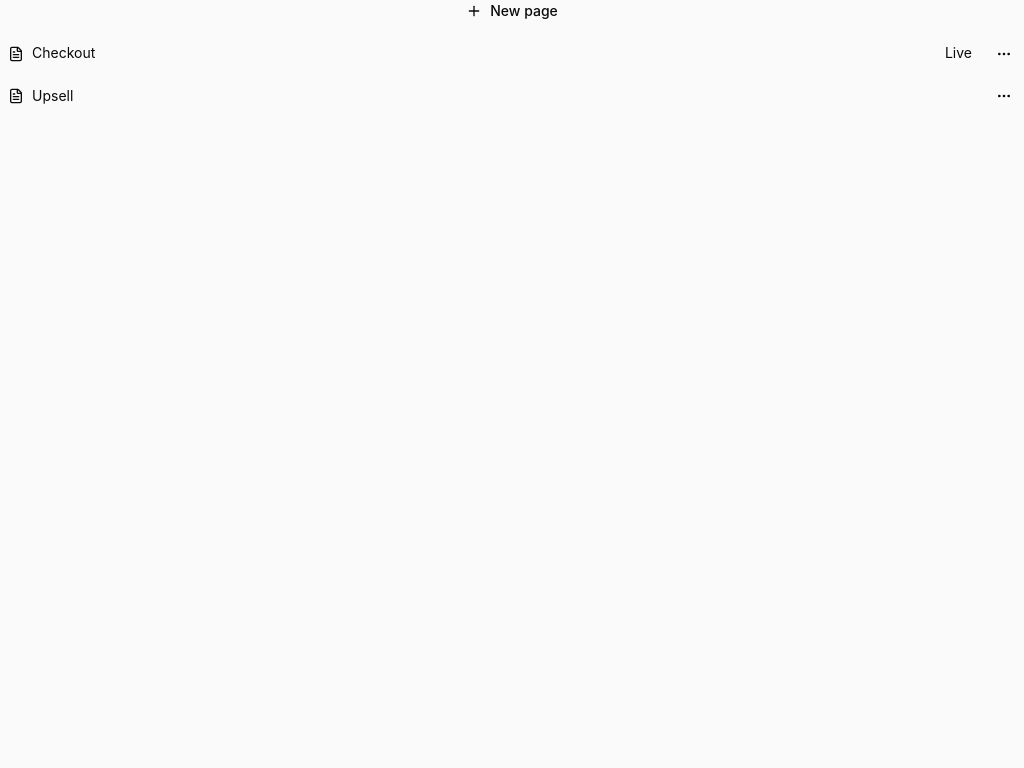
PagesPanel › creating › says what went wrong and stays open
Click the button "New page" at x=512, y=11, box [0,0,1023,22]
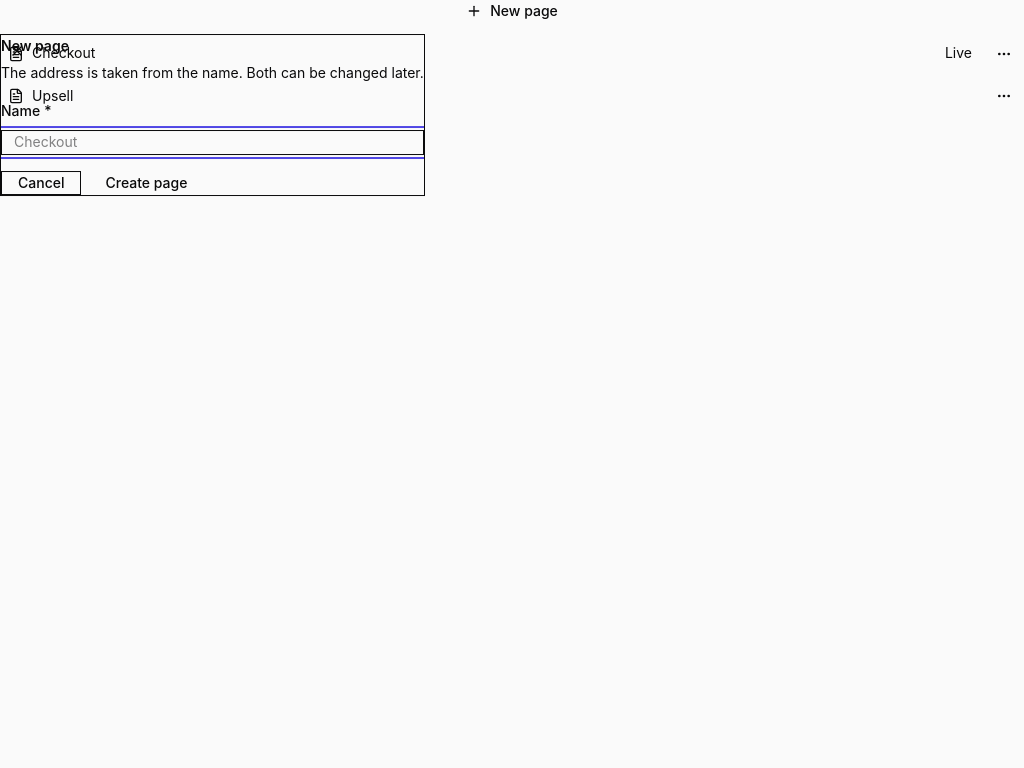
Type "Thank you" into the field labelled "Name" at x=212, y=143, box [1,130,424,155]
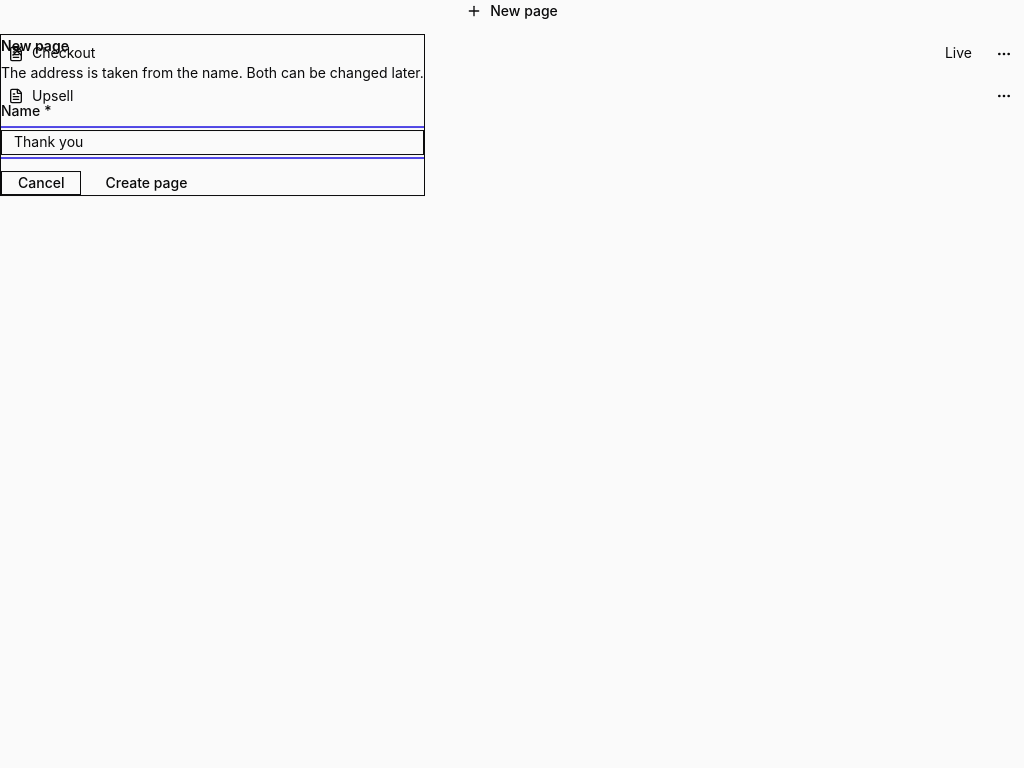
Click the button "Create page" at x=146, y=183, box [90,171,204,195]
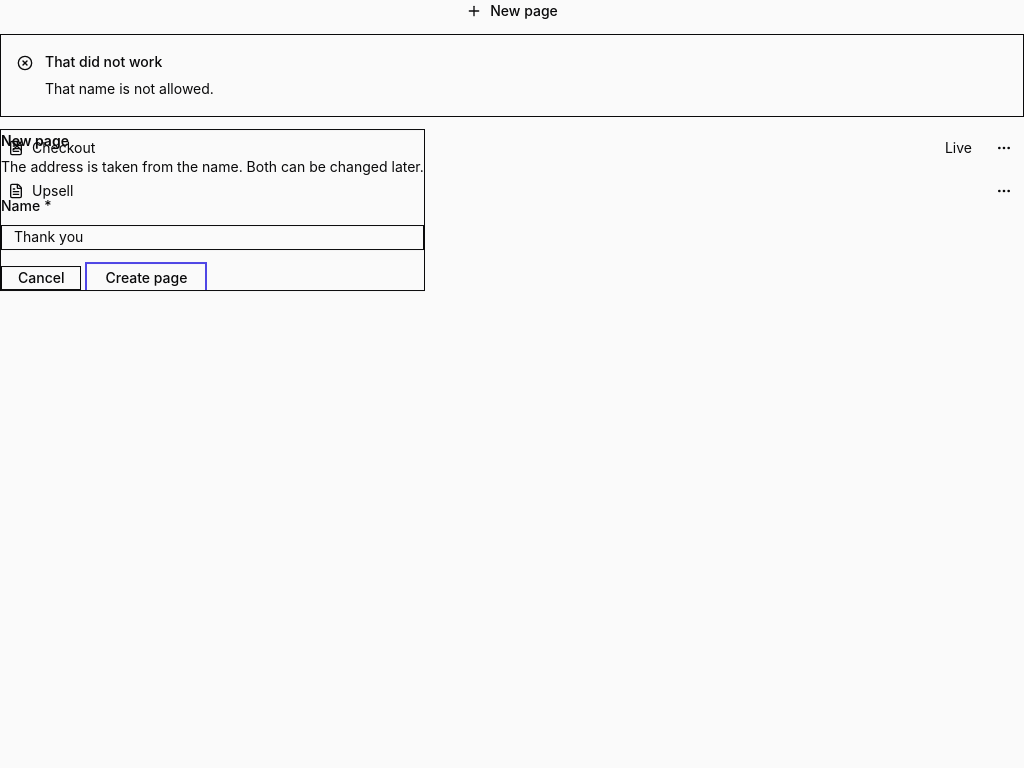
Expected: the text "That name is not allowed." is shown, [45,80,214,97]
